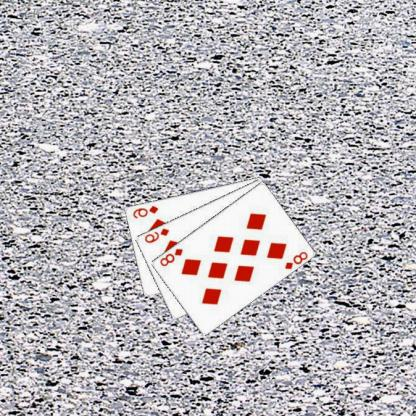6D: (132, 202, 161, 220)
8D: (158, 246, 186, 268), (284, 249, 310, 270)
9D: (143, 226, 172, 244)
